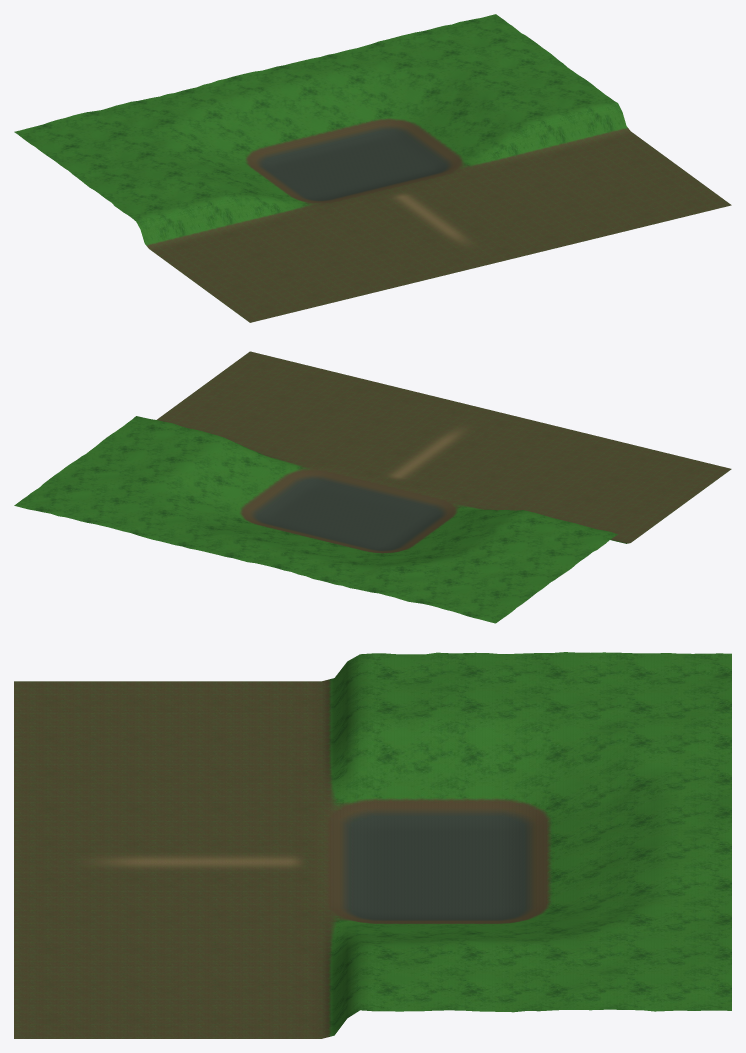
The model's file is SM_fish_bank.glb.
3 views of the same model, one above another, from view 1: azimuth 30°, elevation 25°; view 2: azimuth 150°, elevation 25°; view 3: azimuth 270°, elevation 25° (orthographic). The views are drawn at different scales.
Visible parts, largest first — view 1: SM_fish_bank; view 2: SM_fish_bank; view 3: SM_fish_bank.
Boxes of the visible parts, x1,y1,x2,y2 form: SM_fish_bank: (14, 14, 731, 322); SM_fish_bank: (14, 351, 731, 623); SM_fish_bank: (14, 652, 731, 1038).
Size of the model in its own units: 198 by 10.54 by 168.
1 material, 1 textured.
